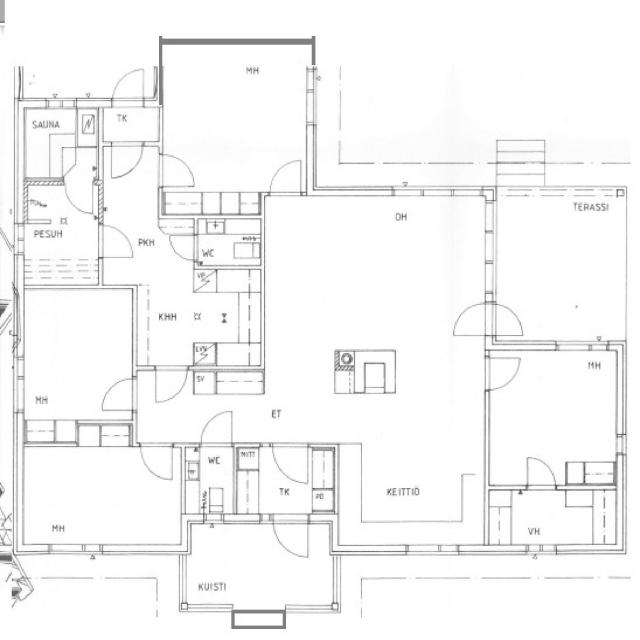door: (103, 93, 160, 145), (270, 513, 311, 561), (96, 374, 138, 416), (270, 442, 310, 486), (157, 150, 198, 191), (104, 140, 145, 181), (110, 65, 147, 110), (197, 408, 236, 450), (152, 364, 191, 406), (484, 353, 524, 393), (138, 441, 176, 483), (268, 155, 304, 199), (97, 222, 136, 261), (522, 454, 560, 493), (451, 300, 489, 338), (491, 300, 527, 340), (63, 177, 97, 217), (167, 232, 200, 264)
window: (479, 212, 501, 306), (300, 66, 322, 126), (10, 355, 28, 420), (554, 338, 610, 355), (12, 289, 27, 348), (404, 542, 459, 557), (45, 542, 96, 558), (282, 601, 333, 616), (186, 602, 235, 615), (612, 430, 629, 458), (526, 544, 558, 557)
zone: (162, 42, 306, 212), (492, 191, 627, 344), (487, 349, 622, 486), (20, 442, 184, 552), (17, 288, 137, 434), (156, 270, 262, 367), (16, 576, 162, 640), (489, 488, 622, 548), (21, 195, 101, 289), (238, 447, 325, 515), (359, 578, 454, 640), (22, 103, 82, 182), (183, 445, 236, 519), (195, 218, 262, 269), (100, 104, 160, 144), (102, 138, 144, 181), (232, 610, 287, 629)
